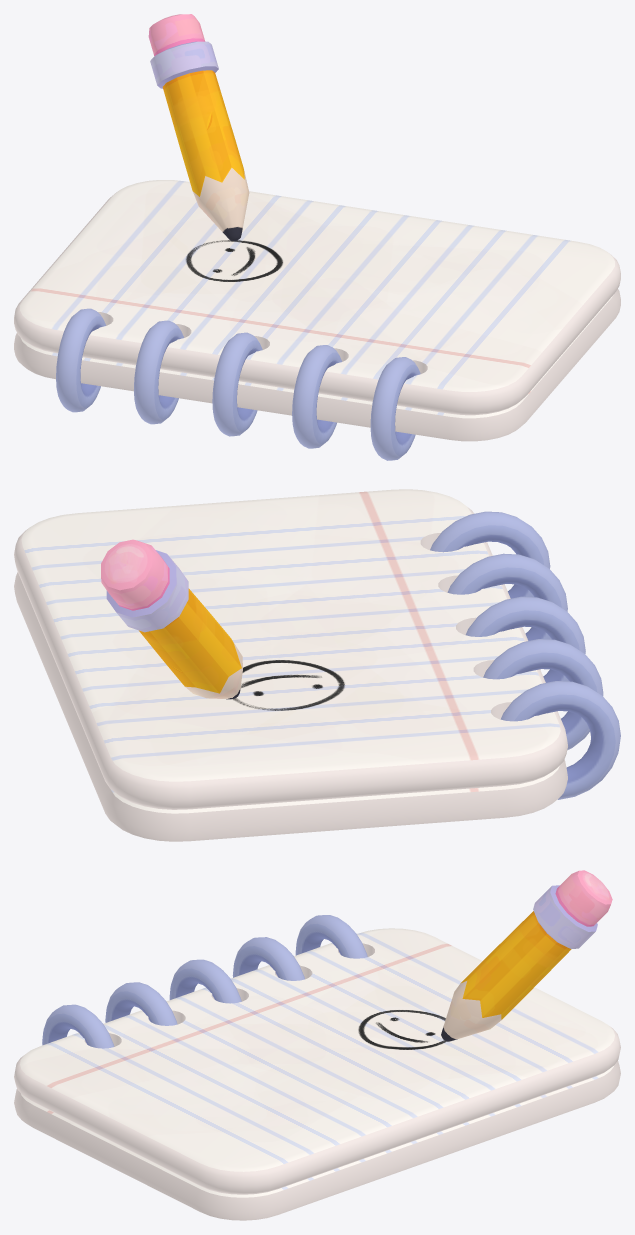
File: notebook.glb
3 views of the same model, one above another, from view 1: azimuth 30°, elevation 25°; view 2: azimuth 150°, elevation 25°; view 3: azimuth 270°, elevation 25° (orthographic). The views are drawn at different scales.
Parts seen in each view (by area): view 1: Rectangle004, Pencil; view 2: Rectangle004, Pencil; view 3: Rectangle004, Pencil.
Part boxes in pixels (x1=…): Rectangle004: x1=14, y1=180, x2=620, y2=460; Pencil: x1=148, y1=14, x2=249, y2=241; Rectangle004: x1=14, y1=489, x2=620, y2=841; Pencil: x1=101, y1=539, x2=242, y2=699; Rectangle004: x1=14, y1=915, x2=620, y2=1220; Pencil: x1=441, y1=870, x2=612, y2=1041.
Size of the model in its own units: 111 by 50.33 by 113.
2 materials, 2 textured.
